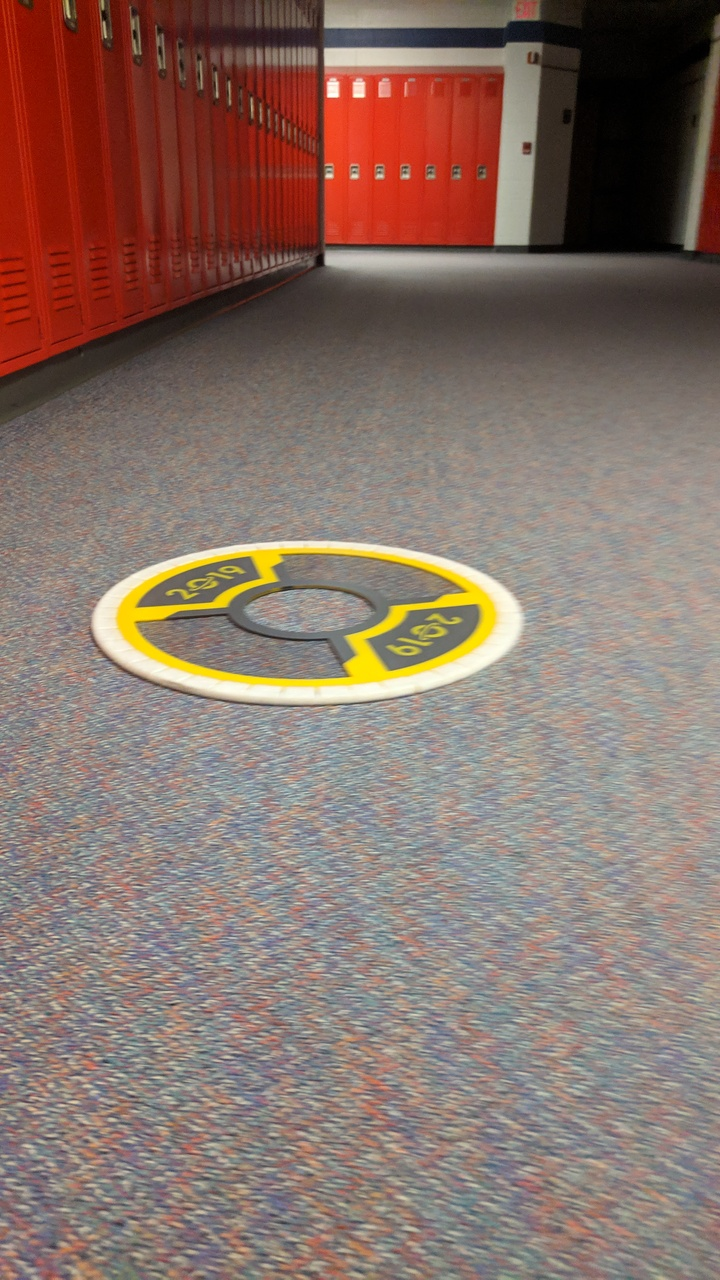hatch_panel: (86, 539, 536, 710)
